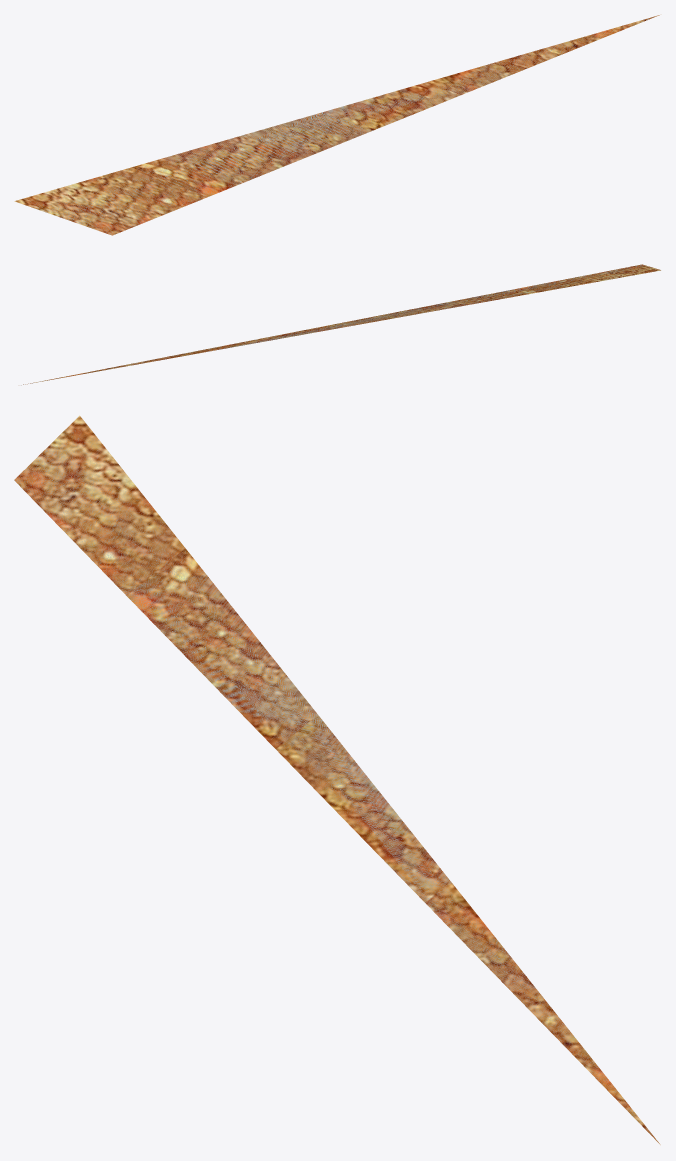
The model's file is 西庸城堡327.dae.
3 renders of one model, top to bottom at view 1: azimuth 30°, elevation 25°; view 2: azimuth 150°, elevation 25°; view 3: azimuth 270°, elevation 25°, orthographic. The views are drawn at different scales.
Parts seen in each view (by area): view 1: SketchUp; view 2: SketchUp; view 3: SketchUp.
Boxes of the visible parts, x1=… form: SketchUp: x1=14, y1=15, x2=659, y2=235; SketchUp: x1=21, y1=264, x2=660, y2=385; SketchUp: x1=14, y1=415, x2=660, y2=1144.
Bounding box in the file's own units: 281 × 161 × 69.49.
